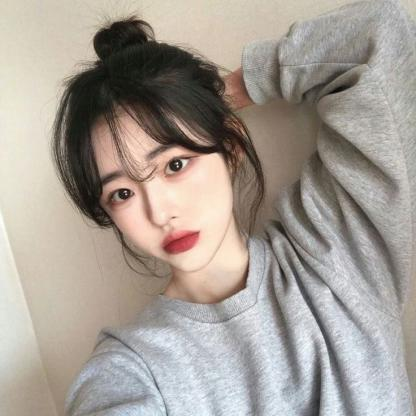person: (66, 27, 250, 279)
